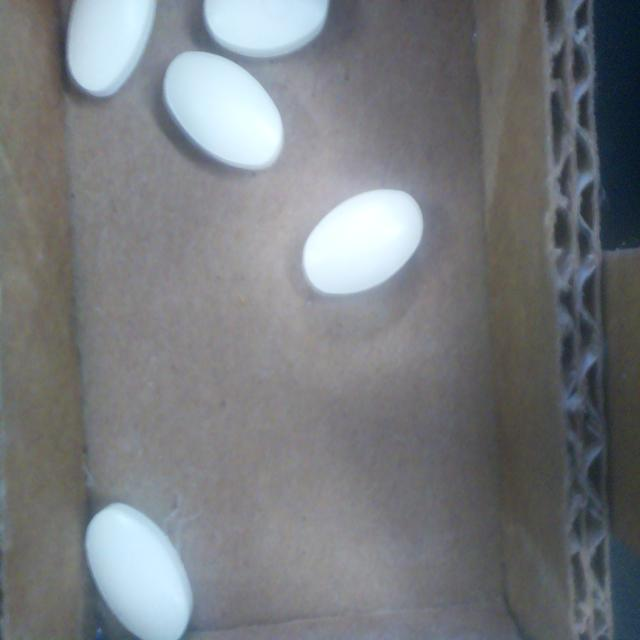pill: (85, 503, 193, 640), (163, 51, 283, 170), (301, 189, 423, 296), (66, 0, 156, 97), (203, 0, 329, 58)
